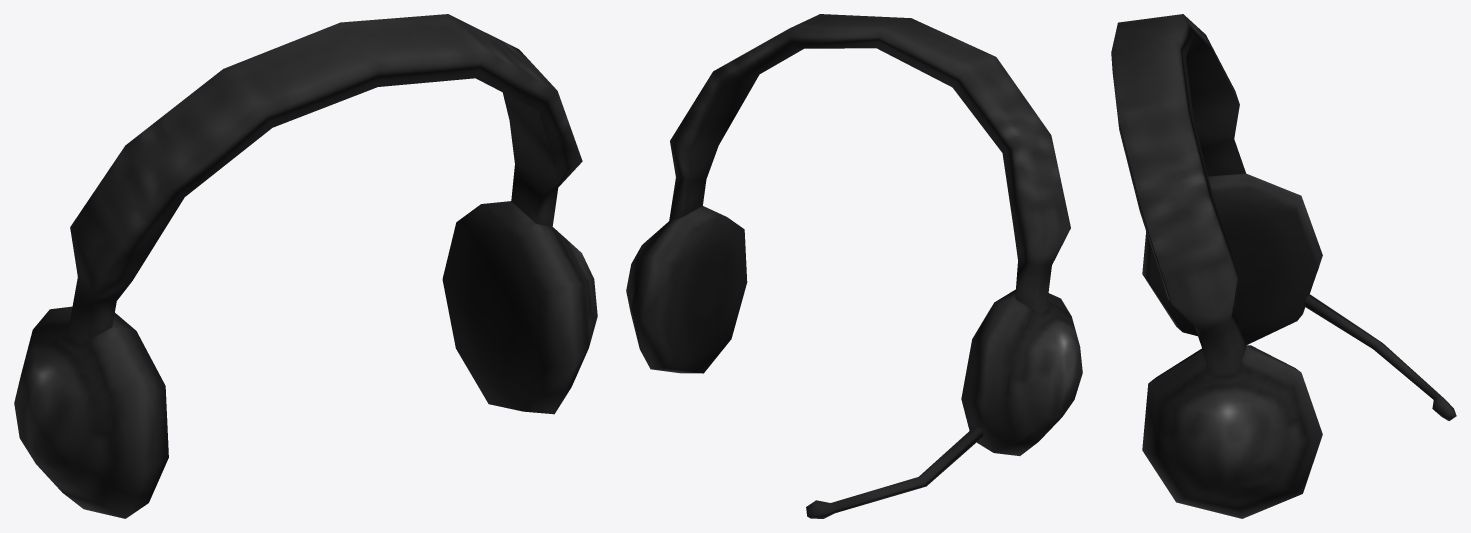
The model's file is headphone3.glb.
3 views of the same model, side by side, from view 1: azimuth 30°, elevation 25°; view 2: azimuth 150°, elevation 25°; view 3: azimuth 270°, elevation 25° (orthographic). The views are drawn at different scales.
Visible parts, largest first — view 1: headphone3; view 2: headphone3; view 3: headphone3.
Part boxes in pixels (x1,y1,x2,y2): headphone3: (14, 14, 597, 518); headphone3: (626, 14, 1082, 518); headphone3: (1111, 14, 1456, 518).
Size of the model in its own units: 0.3099 by 0.2633 by 0.2009.
Materials: 1 (1 with a texture image).
